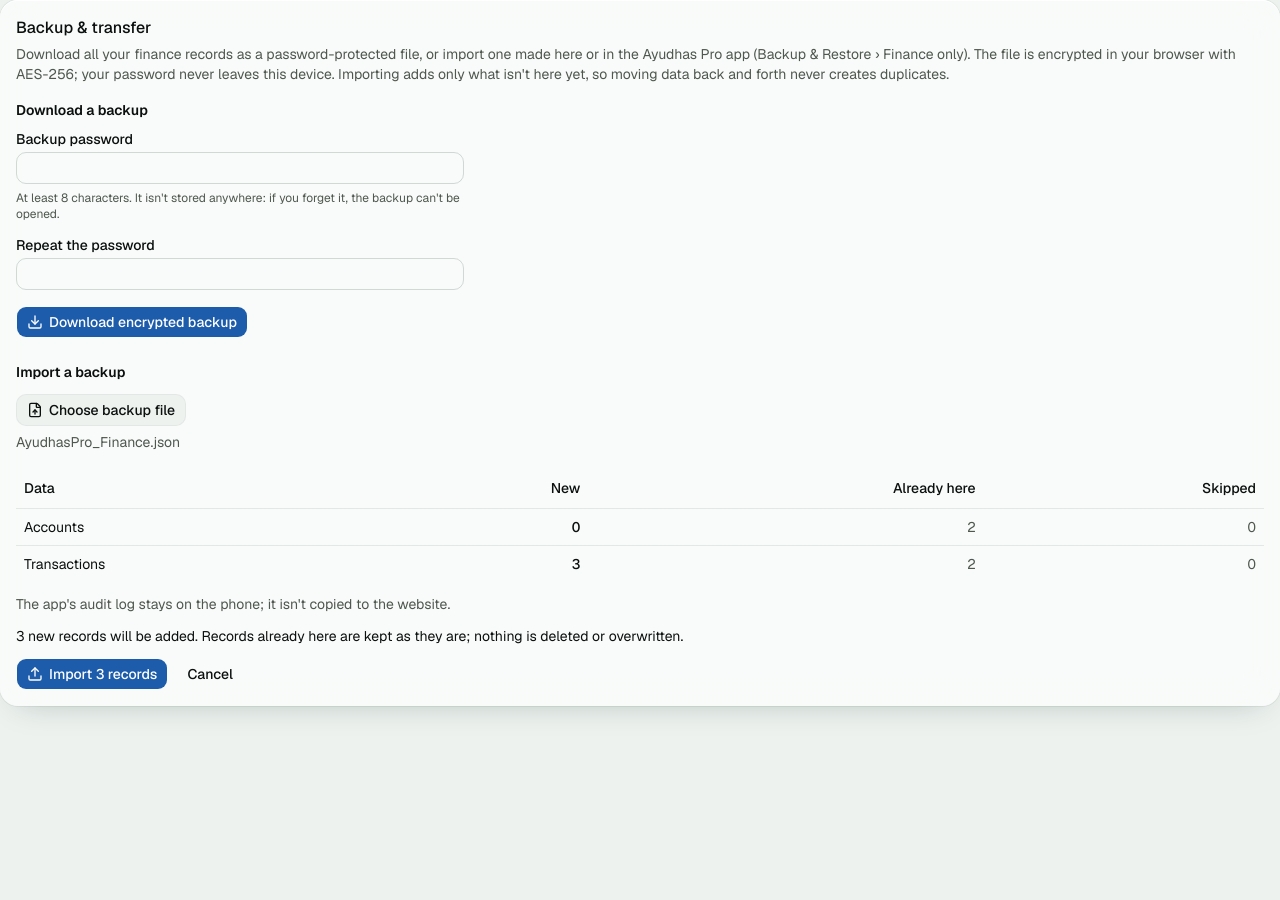
Backup & transfer › previews an unencrypted app backup, then imports it
The image size is (1280, 900).
Earlier steps of the test are not shown.
Expected: the text "Transactions" is shown, [16,545,406,582]
Expected: the text "3 new records will be added" is shown, [16,626,683,644]
Step 1. Click the button "Import 3 records" → click(92, 674), box [16,658,168,690]
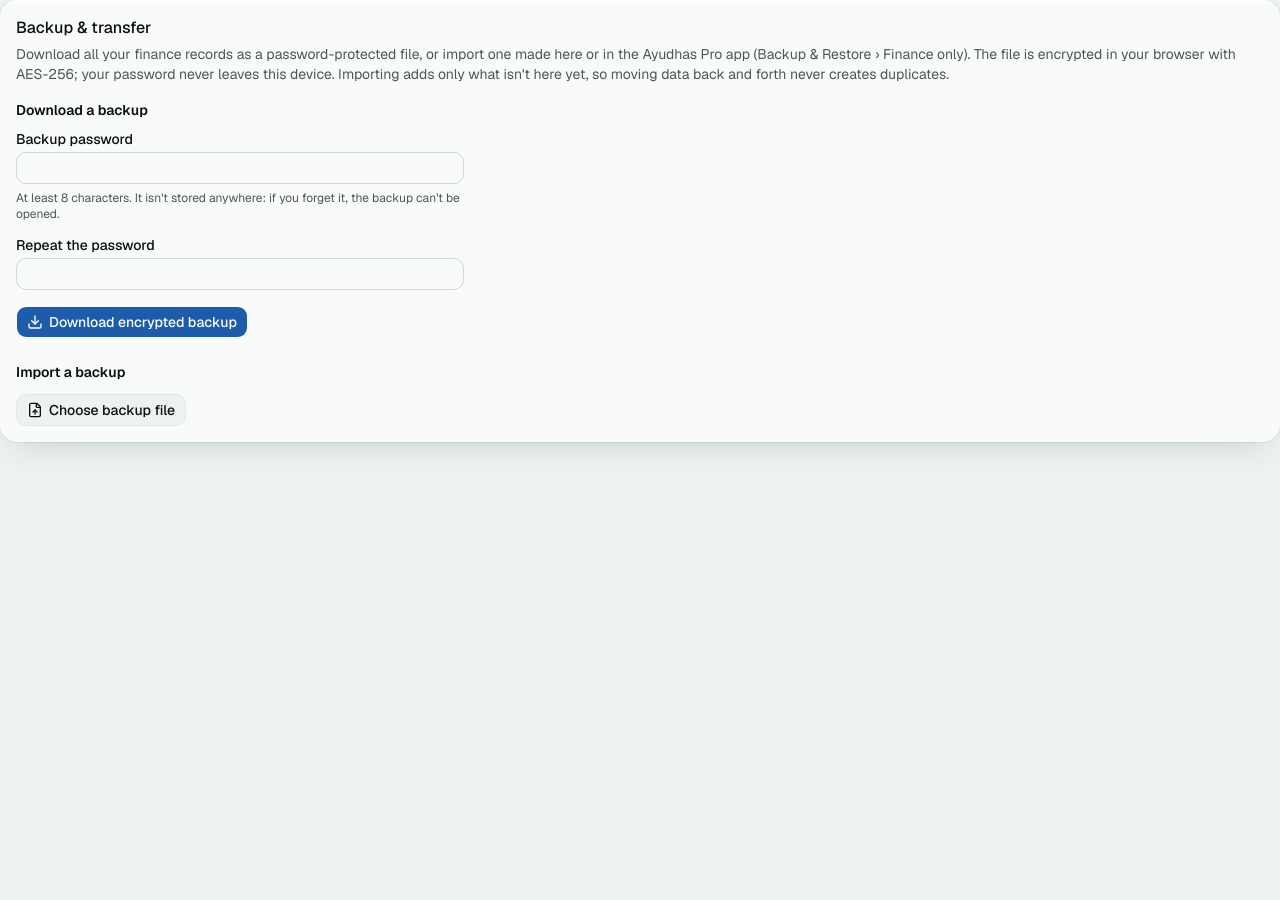
Now the text "Transactions" is gone
